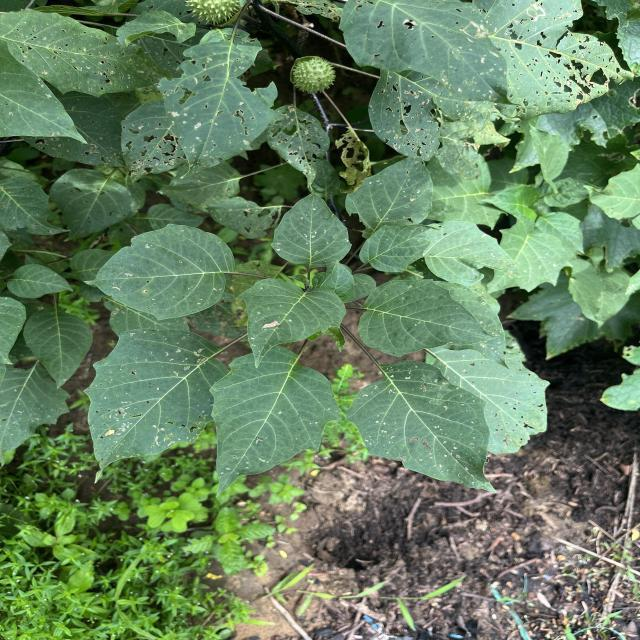Datura metal linn: (81, 328, 230, 486), (207, 344, 344, 499), (344, 360, 501, 494), (80, 222, 240, 322), (356, 276, 504, 360), (234, 276, 348, 371), (269, 182, 354, 270), (356, 223, 444, 274)
